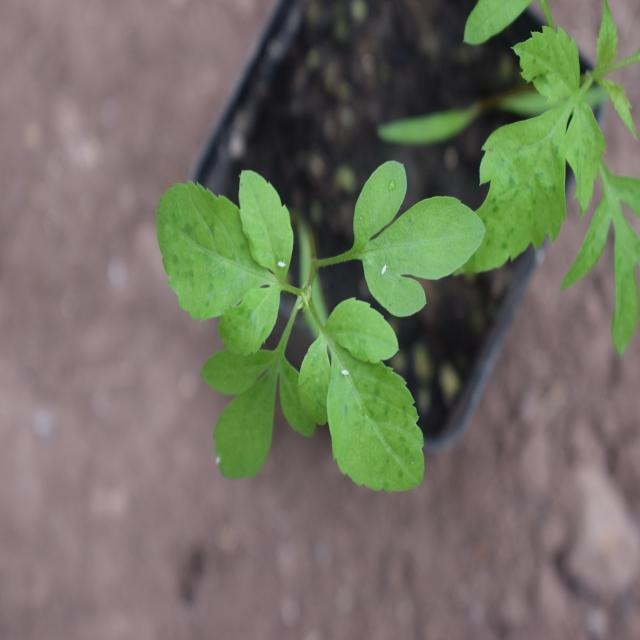Bidens pilosa: (144, 158, 486, 514)
